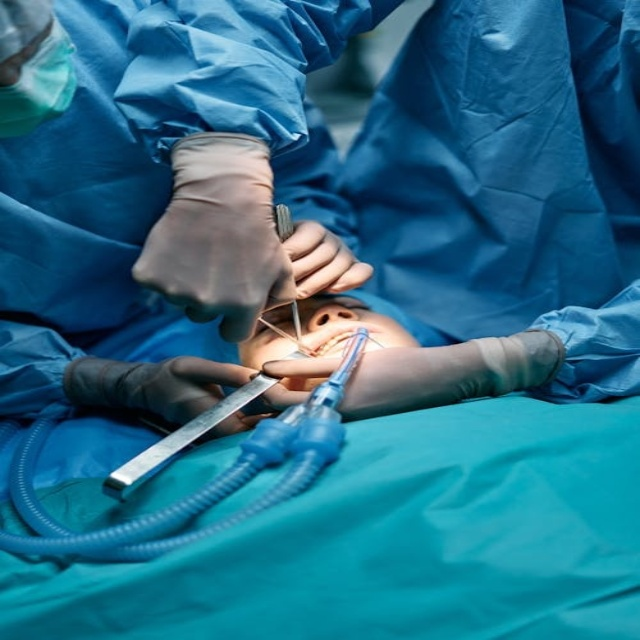Guantes: (130, 131, 301, 343), (248, 325, 566, 423), (65, 353, 273, 440), (266, 207, 383, 308)
Mascara: (0, 16, 78, 136)
Sin_gafas: (248, 313, 293, 338)
Sin_mascara: (294, 320, 397, 360)
